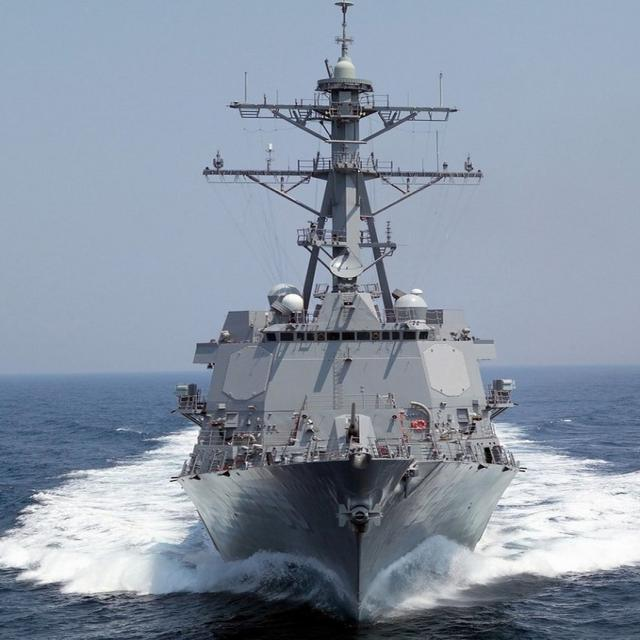navalvessels: (68, 36, 513, 570)
